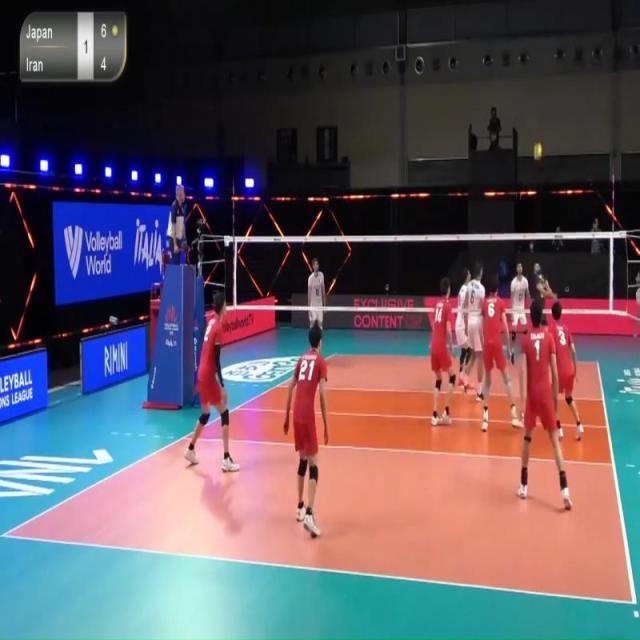volleyball: (534, 143, 542, 159)
